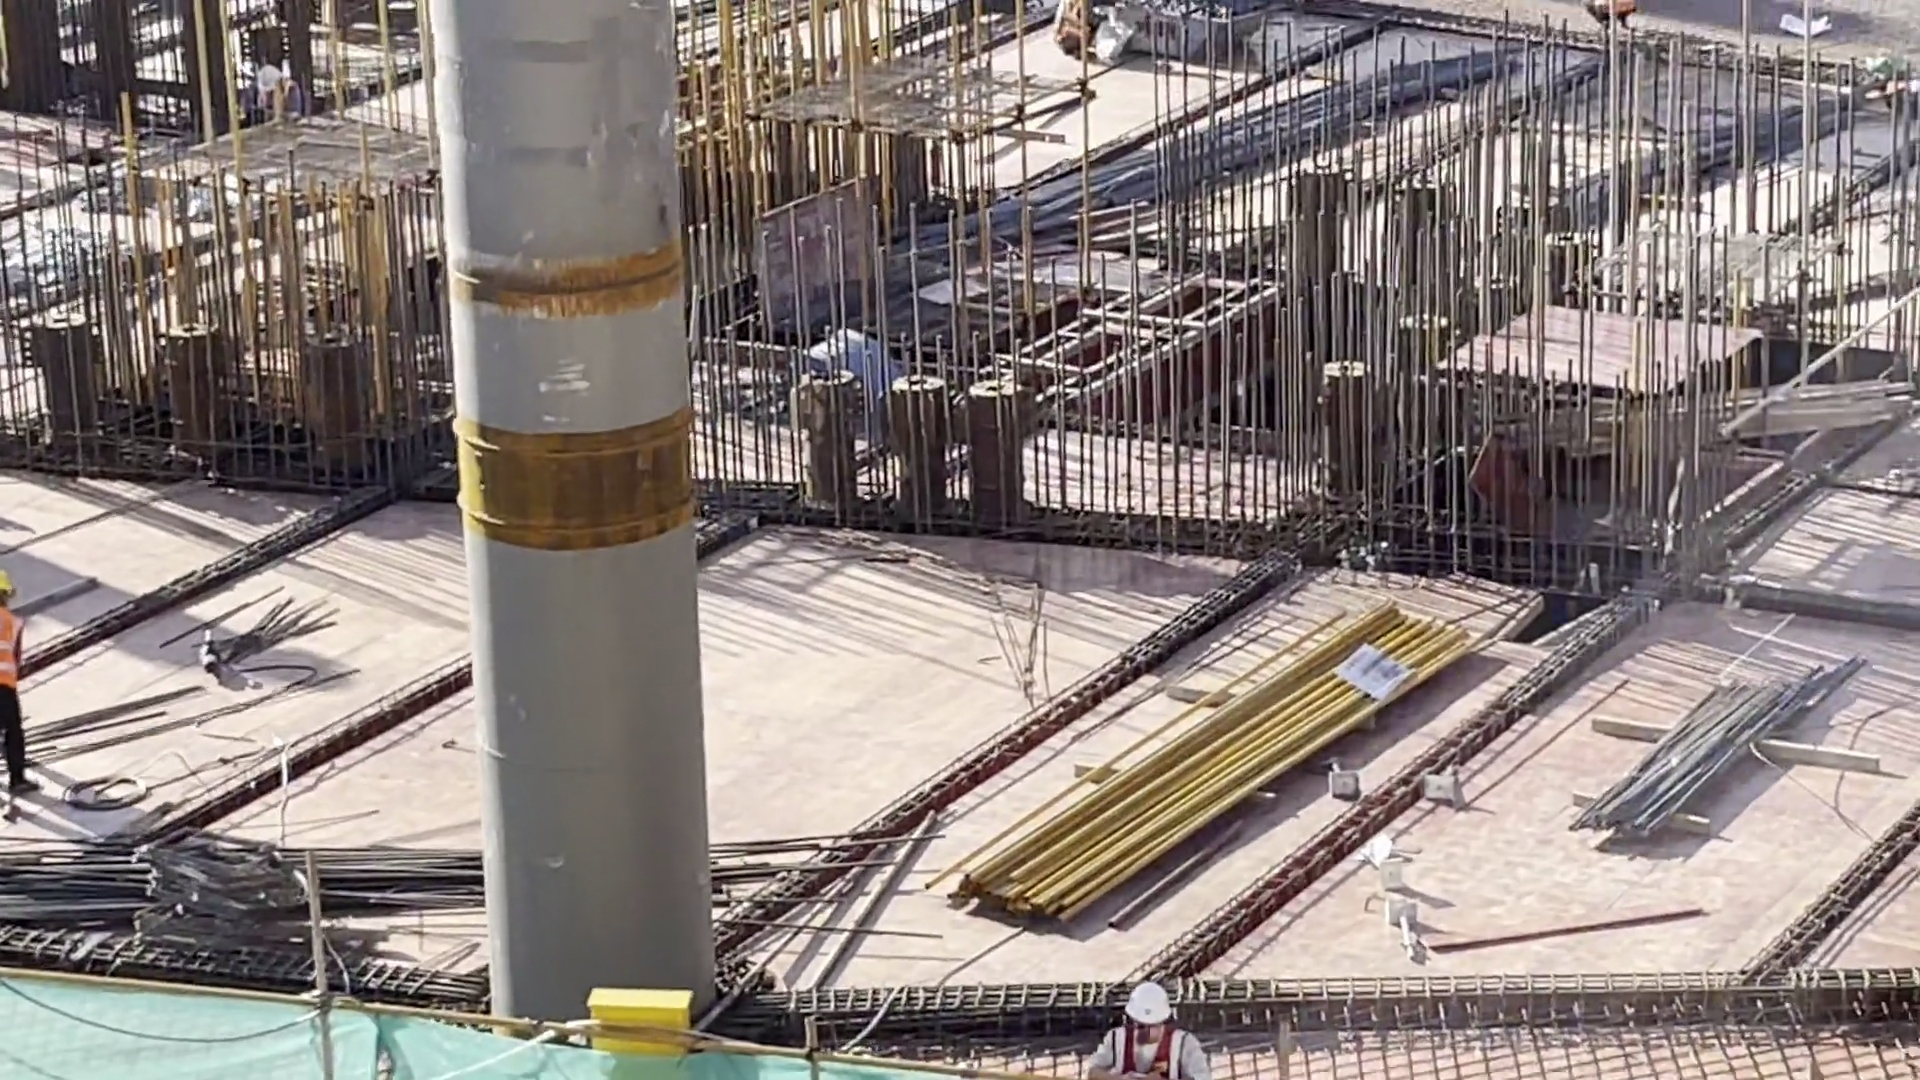ebox: (564, 979, 721, 1080)
helmet: (1120, 976, 1175, 1034)
hopper: (1106, 1, 1278, 78)
person: (1082, 978, 1214, 1080), (226, 56, 308, 132)
vest: (1107, 1015, 1178, 1078)
